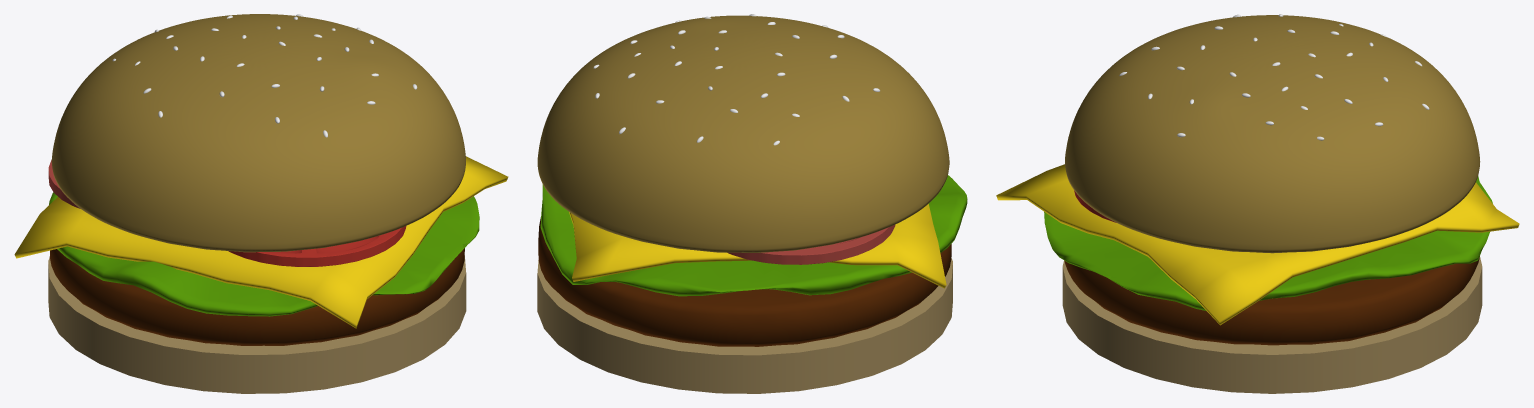
File: Burguer.fbx
3 renders of one model, left to right at view 1: azimuth 30°, elevation 25°; view 2: azimuth 150°, elevation 25°; view 3: azimuth 270°, elevation 25°, orthographic.
Visible parts, largest first — view 1: pão.001, Cilindro, Plano, carne, Cilindro.002, Cilindro.001; view 2: pão.001, Cilindro, carne, Cilindro.002, Plano, Cilindro.003; view 3: pão.001, Cilindro, carne, Plano, Cilindro.002.
Boxes of the visible parts, <box> form: pão.001: <box>51,14,465,252</box>; Cilindro: <box>48,255,466,393</box>; Plano: <box>14,156,508,328</box>; carne: <box>49,248,464,345</box>; Cilindro.002: <box>49,192,479,316</box>; Cilindro.001: <box>228,226,406,266</box>; pão.001: <box>537,15,949,252</box>; Cilindro: <box>537,258,952,393</box>; carne: <box>538,217,951,346</box>; Cilindro.002: <box>540,175,967,296</box>; Plano: <box>569,204,946,288</box>; Cilindro.003: <box>727,225,895,264</box>; pão.001: <box>1065,15,1480,253</box>; Cilindro: <box>1062,257,1482,393</box>; carne: <box>1064,256,1479,345</box>; Plano: <box>996,164,1519,325</box>; Cilindro.002: <box>1044,176,1492,310</box>.
Bounding box in the file's own units: 247 × 134 × 249.
